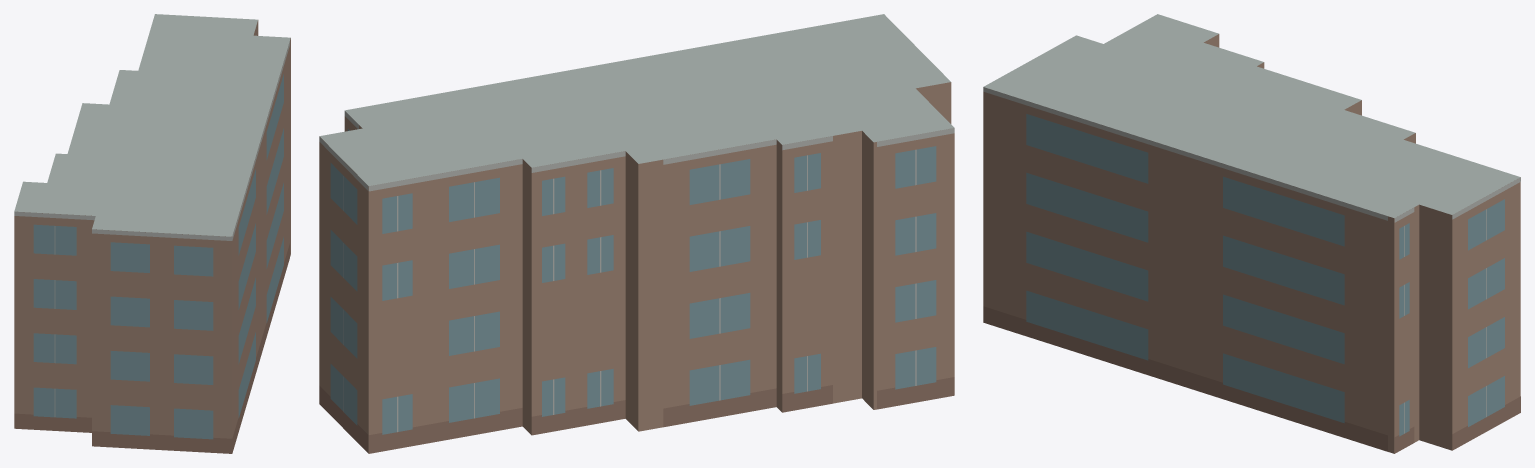
File: survey-upis-32472395.glb
3 renders of one model, left to right at view 1: azimuth 30°, elevation 25°; view 2: azimuth 150°, elevation 25°; view 3: azimuth 270°, elevation 25°, orthographic. The views are drawn at different scales.
Visible parts, largest first — view 1: survey-upis-32472395.tmp; view 2: survey-upis-32472395.tmp; view 3: survey-upis-32472395.tmp.
Boxes of the visible parts, <box> form: survey-upis-32472395.tmp: <box>14,14,290,453</box>; survey-upis-32472395.tmp: <box>319,14,954,453</box>; survey-upis-32472395.tmp: <box>983,14,1520,453</box>.
Bounding box in the file's own units: 22.87 × 12.3 × 25.44.
